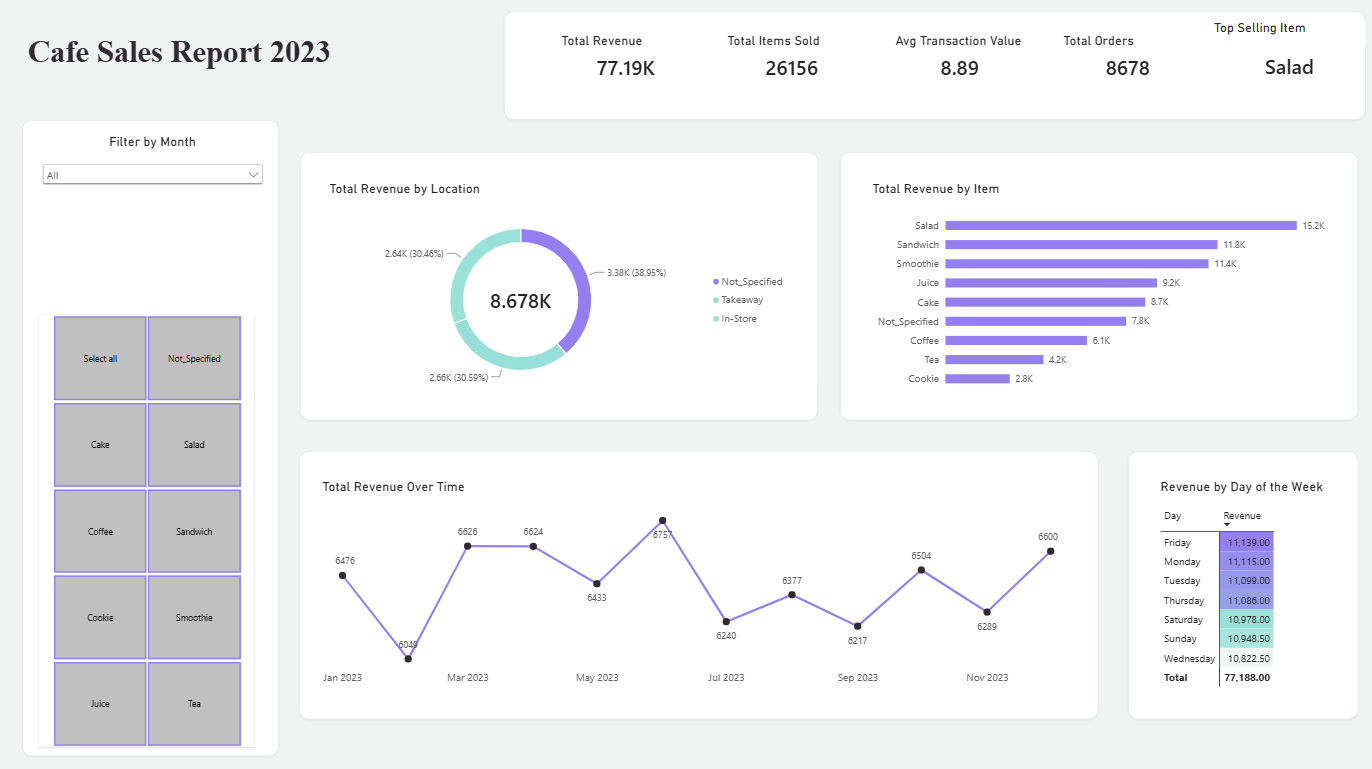

The dashboard page shown, as its layout file describes it:
{"tool":"powerbi","page":{"name":"Page 1","canvas":[1920,1080],"ordinal":0},"visuals":[{"type":"shape","box":[30.1,169.9,359.4,888.8],"z":0},{"type":"shape","box":[39.2,35.3,632.9,101.4],"z":1000},{"type":"shape","box":[704.5,18.3,1203.8,151.6],"z":2000},{"type":"shape","box":[1576.3,632.6,321.5,375.1],"z":3000},{"type":"shape","box":[419.6,215.7,724.1,375.1],"z":4000},{"type":"shape","box":[1173.7,215.7,724.1,375.1],"z":5000},{"type":"shape","box":[418.2,632.6,1117.5,375.1],"z":6000},{"type":"kpi","title":"Total Revenue","fields":{"Indicator":["Sum(clean_cafe_sales.total_spent)"],"TrendLine":["clean_cafe_sales.transaction_date.Variation.Jerarquía de fechas.Año"]},"box":[768.5,35.3,211.7,88.9],"z":7000},{"type":"textbox","box":[39.2,49.7,496.7,87.6],"z":8000},{"type":"kpi","title":"Total Items Sold","fields":{"Indicator":["Sum(clean_cafe_sales.quantity)"],"TrendLine":["clean_cafe_sales.transaction_date.Variation.Jerarquía de fechas.Año"]},"box":[1001.2,35.3,211.7,88.9],"z":9000},{"type":"kpi","title":"Avg Transaction Value","fields":{"Indicator":["Avg(clean_cafe_sales.total_spent)"],"TrendLine":["clean_cafe_sales.transaction_date.Variation.Jerarquía de fechas.Año"]},"box":[1235.1,35.3,211.7,88.9],"z":10000},{"type":"kpi","title":"Total Orders","fields":{"Indicator":["CountNonNull(clean_cafe_sales.transaction_id)"],"TrendLine":["clean_cafe_sales.transaction_date.Variation.Jerarquía de fechas.Año"]},"box":[1470.4,35.3,211.7,88.9],"z":11000},{"type":"cardVisual","title":"Top Selling Item","fields":{"Data":["clean_cafe_sales.Top Selling Item"]},"box":[1696.5,31.4,211.7,92.8],"z":12000},{"type":"lineChart","title":"Total Revenue Over Time","fields":{"Category":["clean_cafe_sales.transaction_date.Variation.Jerarquía de fechas.Año","clean_cafe_sales.transaction_date.Variation.Jerarquía de fechas.Trimestre","clean_cafe_sales.transaction_date.Variation.Jerarquía de fechas.Mes"],"Y":["Sum(clean_cafe_sales.total_spent)"]},"box":[435.2,658.7,1079.6,322.8],"z":13000},{"type":"barChart","title":"Total Revenue by Item","fields":{"Category":["clean_cafe_sales.item"],"Y":["Sum(clean_cafe_sales.total_spent)"]},"box":[1203.8,241.8,664,324.1],"z":14000},{"type":"donutChart","title":"Total Revenue by Location","fields":{"Category":["clean_cafe_sales.location"],"Y":["CountNonNull(clean_cafe_sales.location)"]},"box":[444.4,241.8,674.4,324.1],"z":15000},{"type":"slicer","title":"Filter by Month","fields":{"Values":["clean_cafe_sales.Month name"]},"box":[54.9,189.5,317.6,175.1],"z":16000},{"type":"slicer","title":"Filter by Item","fields":{"Values":["clean_cafe_sales.item"]},"box":[54.9,443.1,300.6,603.8],"z":17000},{"type":"pivotTable","fields":{"Rows":["clean_cafe_sales.Day name"],"Values":["Sum(clean_cafe_sales.total_spent)"]},"box":[1605,658.7,262.7,322.8],"z":18000}]}

Visuals, with their boxes in screenshot pixels (x1, y1, x2, y2), scaled from the page's 1920x1080 canvas onto the 1372x769 screenshot:
shape: 22:121:278:754
shape: 28:25:480:97
shape: 503:13:1364:121
shape: 1126:450:1356:718
shape: 300:154:817:421
shape: 839:154:1356:421
shape: 299:450:1097:718
"Total Revenue" kpi: 549:25:700:88
textbox: 28:35:383:98
"Total Items Sold" kpi: 715:25:867:88
"Avg Transaction Value" kpi: 883:25:1034:88
"Total Orders" kpi: 1051:25:1202:88
"Top Selling Item" cardVisual: 1212:22:1364:88
"Total Revenue Over Time" lineChart: 311:469:1082:699
"Total Revenue by Item" barChart: 860:172:1335:403
"Total Revenue by Location" donutChart: 318:172:799:403
"Filter by Month" slicer: 39:135:266:260
"Filter by Item" slicer: 39:316:254:745
pivotTable - clean_cafe_sales.Day name x Sum(clean_cafe_sales.total_spent): 1147:469:1335:699
